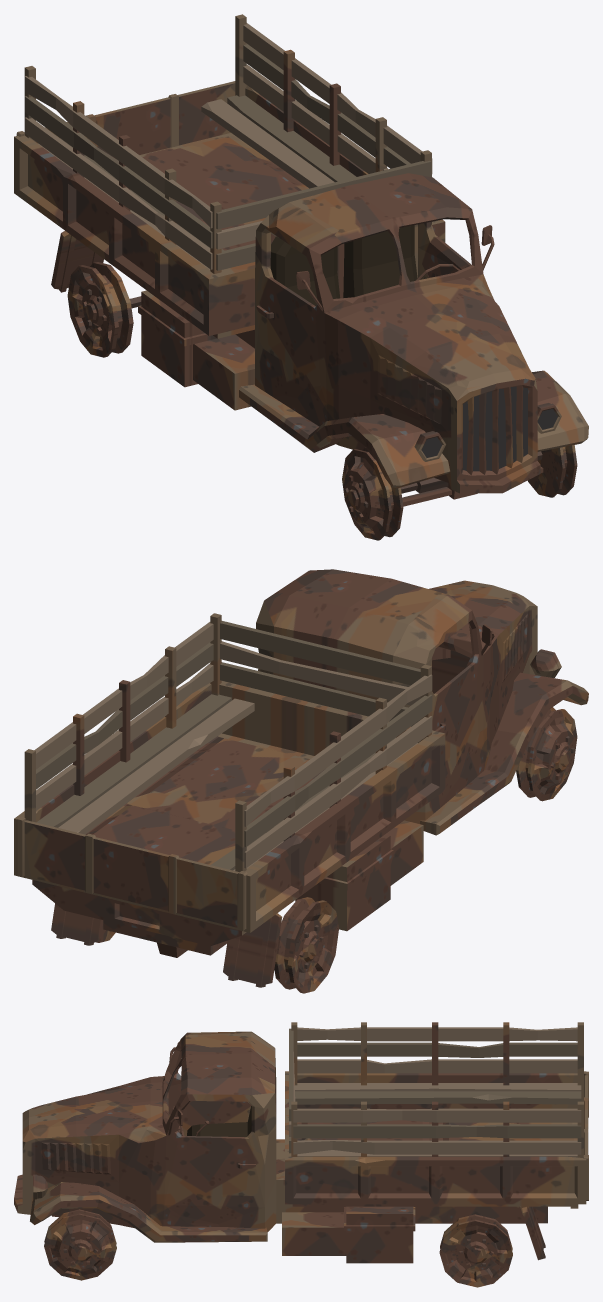
File: SM_Prop_Truck_Rusted_01_textured.fbx
3 renders of one model, top to bottom at view 1: azimuth 30°, elevation 25°; view 2: azimuth 150°, elevation 25°; view 3: azimuth 270°, elevation 25°, orthographic. The views are drawn at different scales.
Parts seen in each view (by area): view 1: SM_Prop_Truck_Rusted_01; view 2: SM_Prop_Truck_Rusted_01; view 3: SM_Prop_Truck_Rusted_01.
Boxes of the visible parts, x1,y1,x2,y2 form: SM_Prop_Truck_Rusted_01: (14, 14, 588, 540); SM_Prop_Truck_Rusted_01: (14, 569, 588, 993); SM_Prop_Truck_Rusted_01: (14, 1022, 588, 1287).
Bounding box in the file's own units: 243 × 244 × 662.
Materials: 1 (1 with a texture image).
